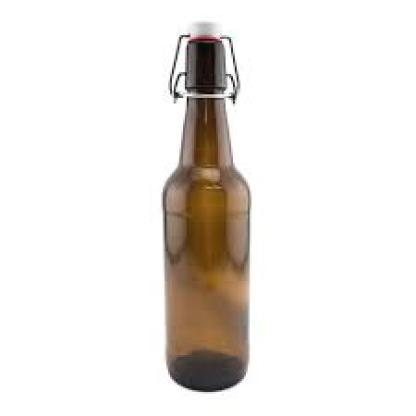trash: (163, 24, 249, 390)
